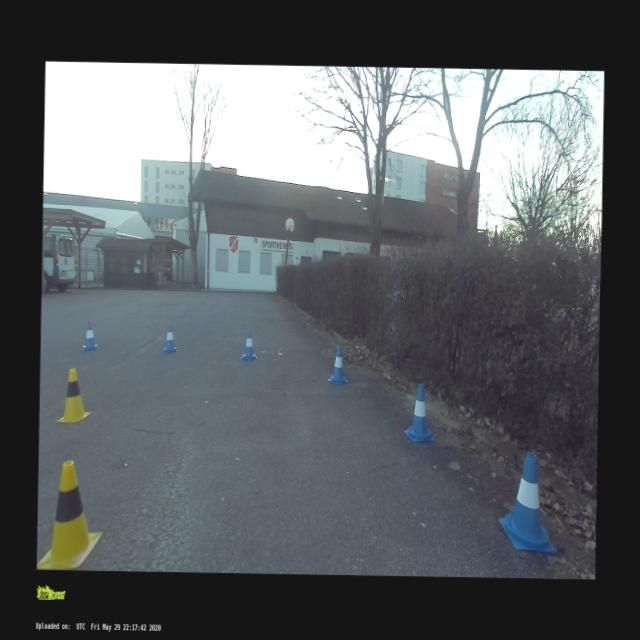blue_cone: (498, 452, 557, 554), (404, 382, 436, 442), (326, 346, 348, 384), (240, 328, 258, 362), (161, 324, 178, 354), (82, 322, 98, 352)
yellow_cone: (36, 456, 102, 570), (56, 368, 91, 423)
